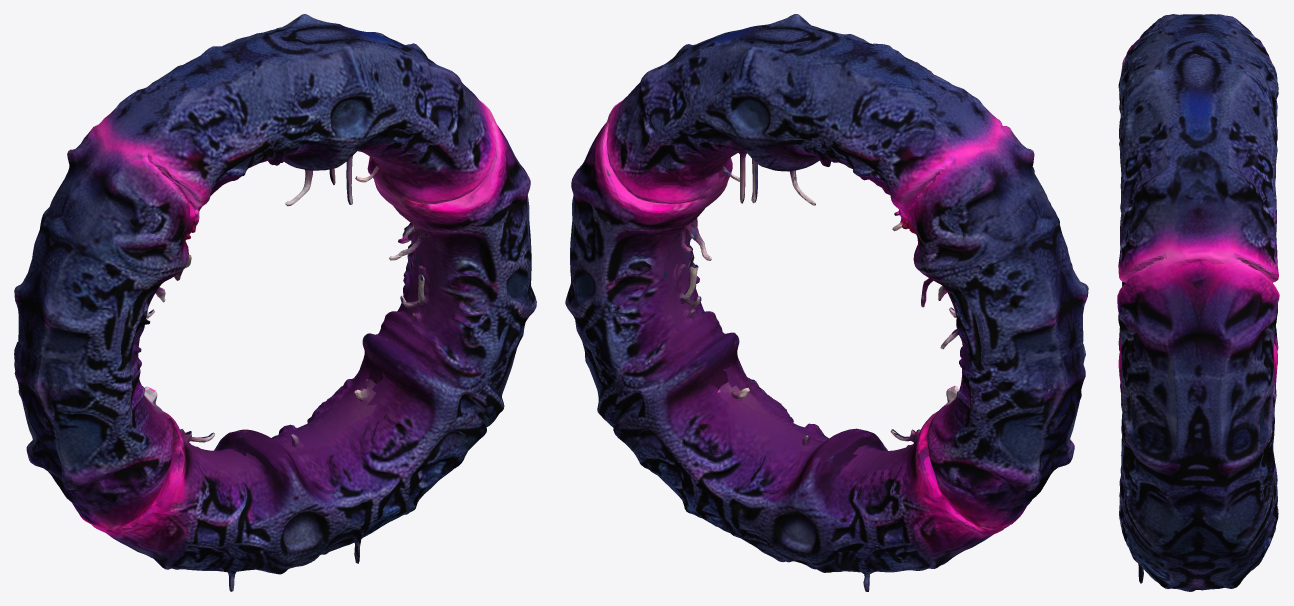
File: shore-ring-generated-2026-04-19T15-21-39-739Z.glb
3 renders of one model, left to right at view 1: azimuth 30°, elevation 25°; view 2: azimuth 150°, elevation 25°; view 3: azimuth 270°, elevation 25°, orthographic.
Visible parts, largest first — view 1: temp_mesh.ply; view 2: temp_mesh.ply; view 3: temp_mesh.ply.
Part boxes in pixels (bbox=[...]): temp_mesh.ply: bbox=[14, 14, 536, 591]; temp_mesh.ply: bbox=[565, 14, 1088, 591]; temp_mesh.ply: bbox=[1117, 14, 1279, 591].
Size of the model in its own units: 1.95 by 1.97 by 0.5516.
1 material, 1 textured.
